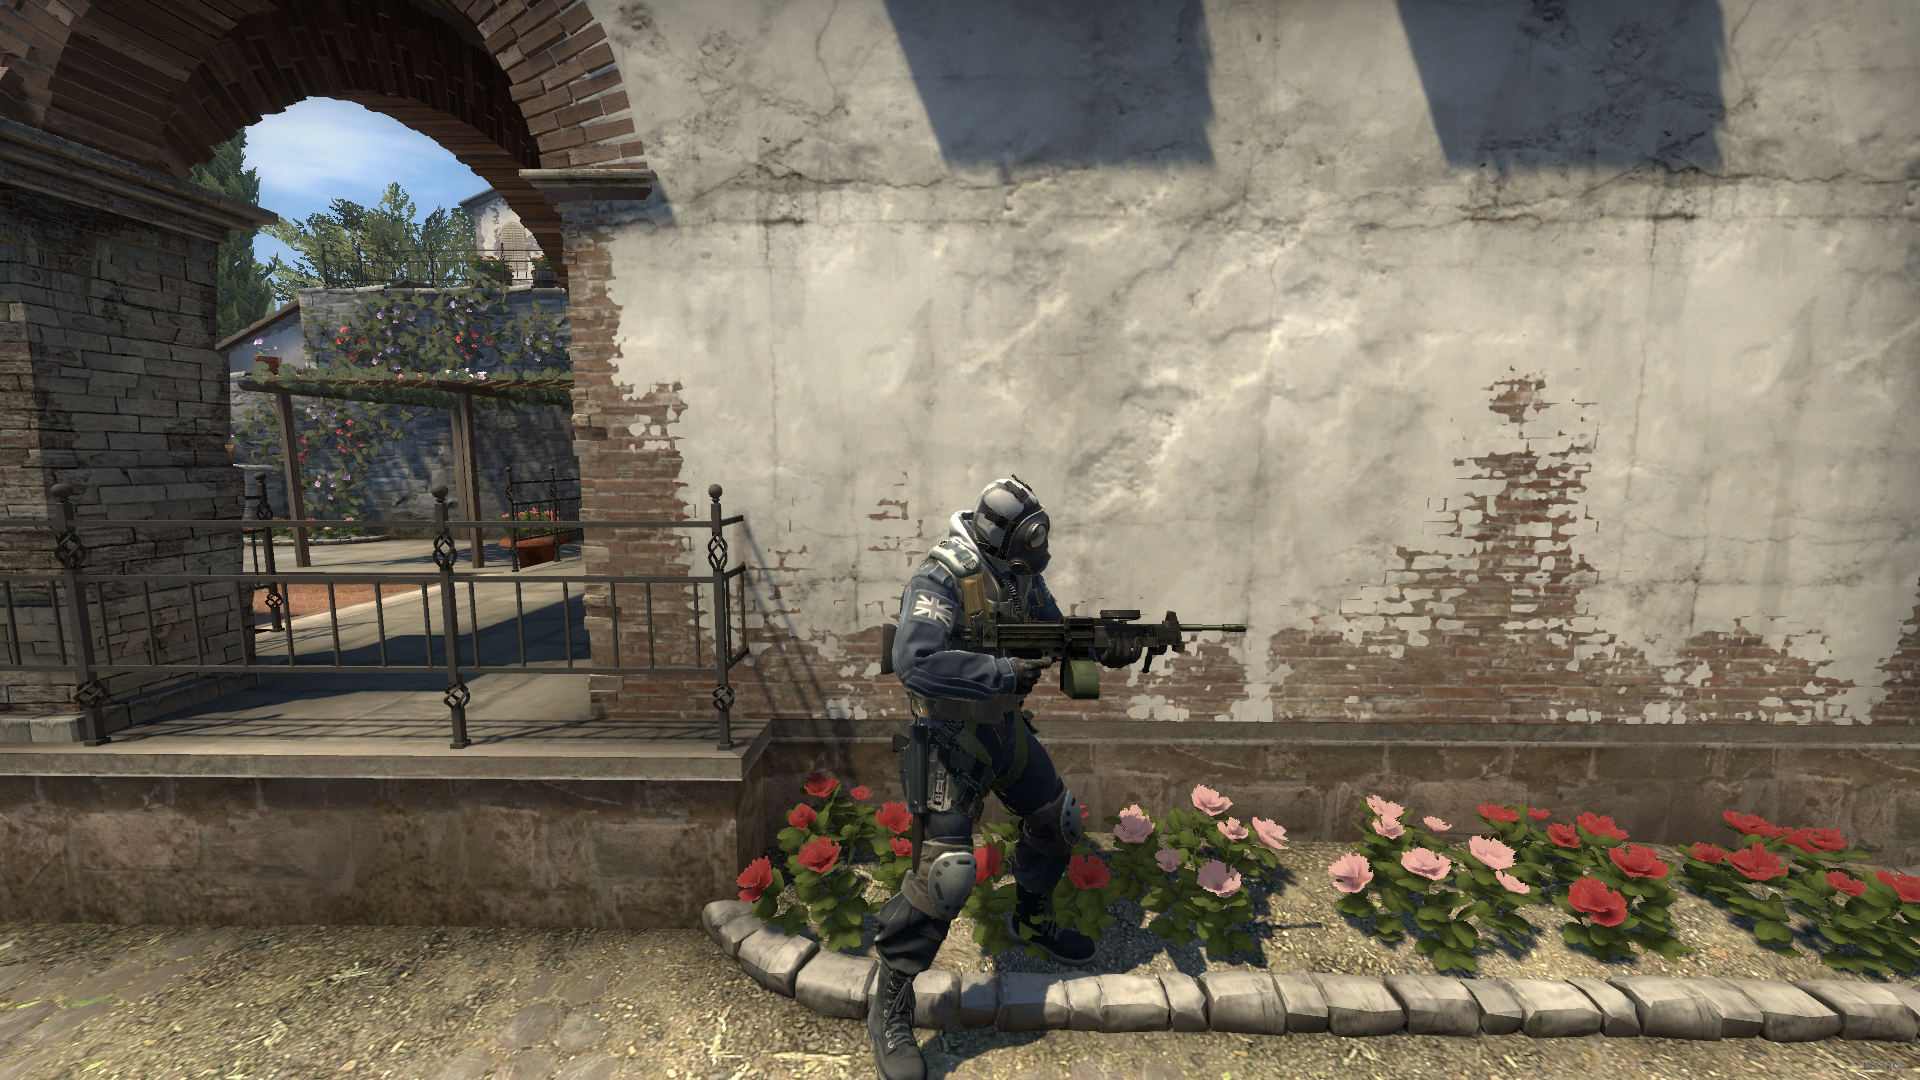ct: (858, 479, 1105, 1080)
